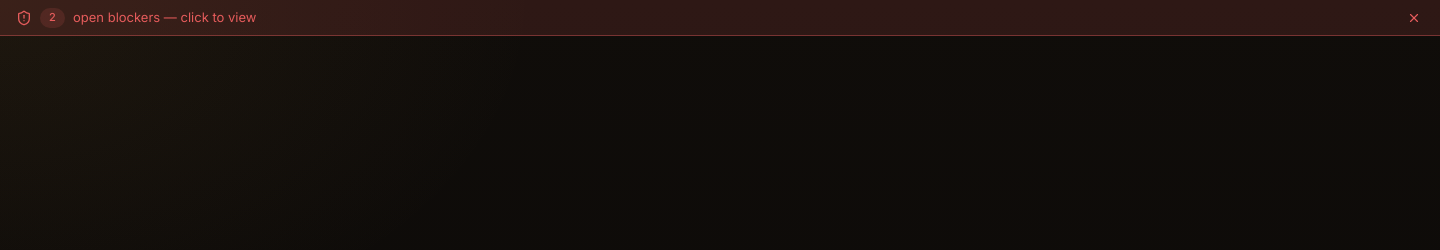
<BlockersBanner> › clicking [×] hides banner locally (session-only dismiss)
The image size is (1440, 250).
Check: the button with test id "blockers-banner" is shown, box [0,0,1439,36]
What coordinates should you click on to do the following:
click the button with test id "blockers-banner-dismiss"
I would click on:
 (1414, 18)
Its box is [1404,8,1424,28].
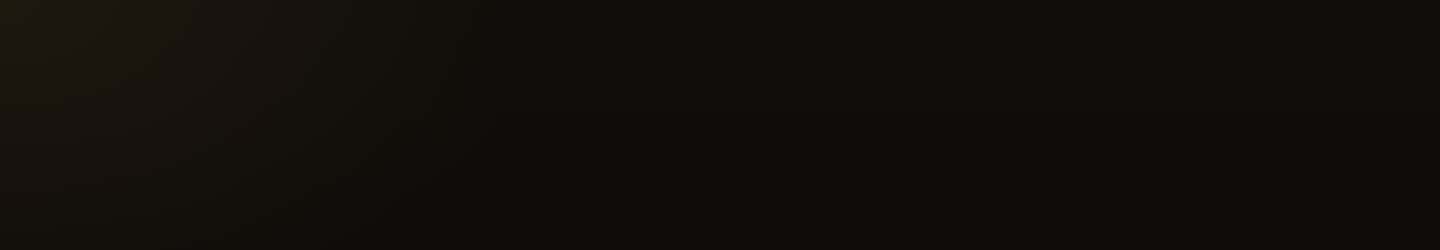
Check: the button with test id "blockers-banner" is gone
